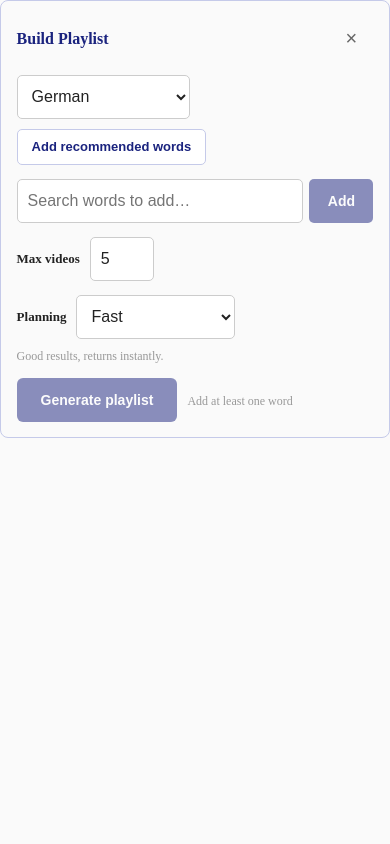
Test: PlaylistPanel planner selector › shows an inline error pointing at Fast when the solver 503s
This screenshot has width=390, height=844.
Select "Optimal (slower)" in the dropdown with test id "playlist-algorithm": (156, 317) x1=76 y1=295 x2=236 y2=339
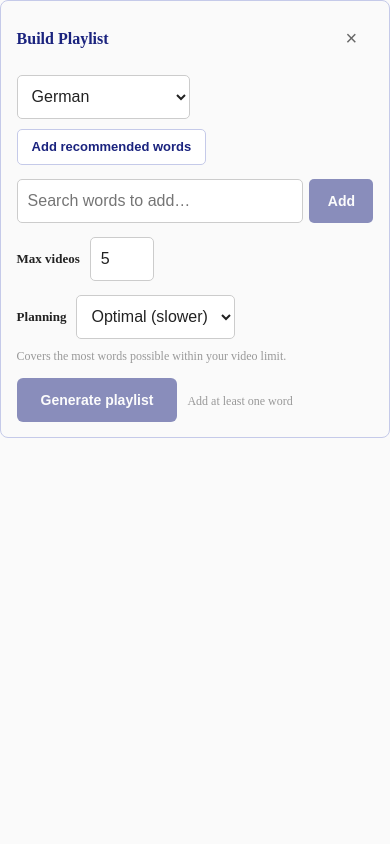
Click the button "Add recommended words": click(111, 147) x1=17 y1=129 x2=206 y2=165
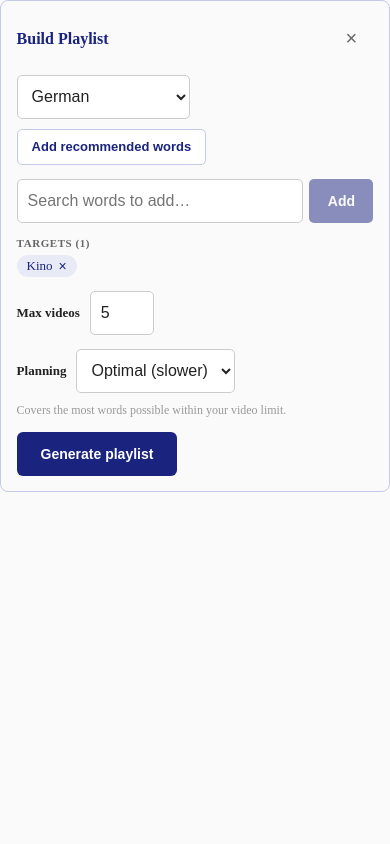
Expected: the text "Kino" is shown, x1=27 y1=258 x2=53 y2=273
Click the button with test id "playlist-generate": click(97, 454) x1=17 y1=432 x2=177 y2=476
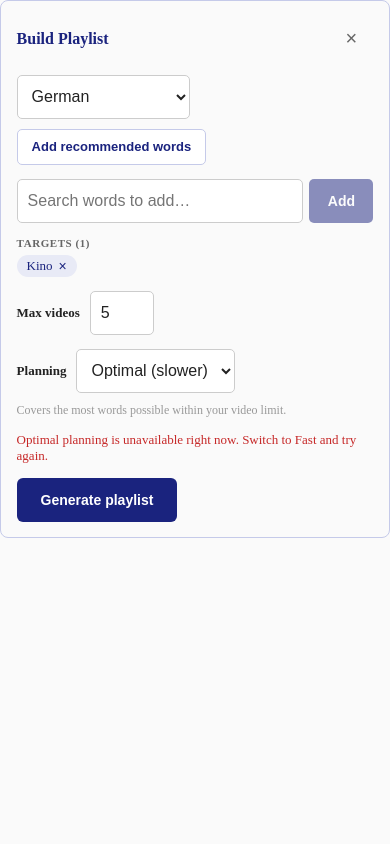
Expected: the text "Switch to Fast" is shown, x1=17 y1=432 x2=356 y2=463
